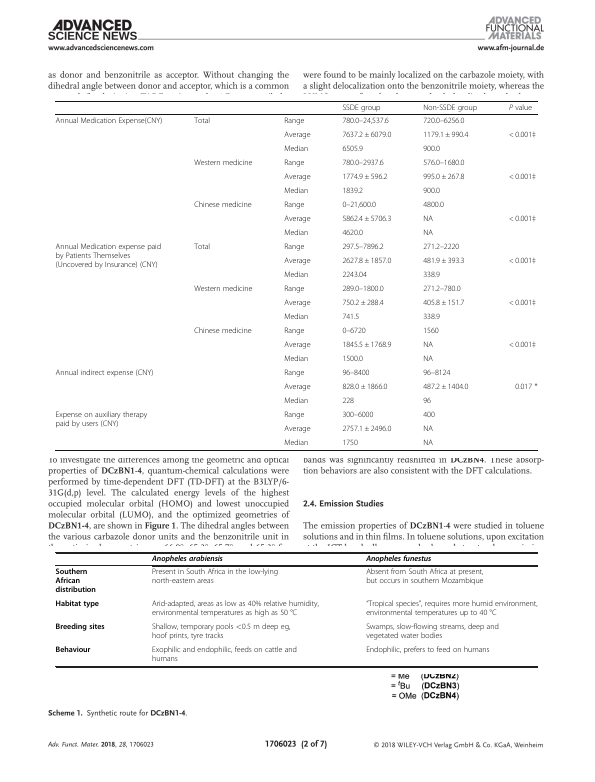borderless: (54, 99, 538, 450), (54, 551, 537, 666)
cell: (365, 600, 538, 619), (151, 600, 320, 619), (55, 242, 162, 270), (151, 646, 298, 665), (151, 623, 291, 642), (365, 623, 500, 642), (151, 568, 279, 587), (365, 568, 484, 587), (55, 410, 148, 429), (365, 646, 490, 656), (54, 568, 97, 596), (55, 116, 163, 126), (55, 368, 154, 378), (151, 555, 224, 564), (365, 555, 432, 564), (193, 158, 253, 168), (193, 284, 253, 294), (193, 200, 252, 210), (193, 326, 252, 336), (54, 623, 106, 633), (341, 130, 392, 140), (341, 214, 392, 224), (341, 256, 392, 266), (341, 340, 392, 350), (341, 424, 392, 434), (422, 103, 478, 112), (341, 116, 390, 126), (422, 130, 469, 140), (341, 172, 388, 182), (341, 382, 388, 392), (422, 382, 469, 392), (54, 600, 100, 610), (341, 298, 385, 308), (422, 116, 465, 126), (341, 158, 384, 168), (422, 158, 465, 168), (422, 172, 465, 182), (341, 242, 384, 252), (422, 256, 465, 266), (341, 284, 384, 294), (422, 298, 465, 308), (422, 284, 461, 294), (422, 242, 460, 252), (54, 646, 91, 656), (341, 103, 381, 112), (341, 200, 377, 210), (341, 410, 374, 420), (508, 130, 537, 140), (508, 172, 537, 182), (508, 214, 537, 224), (508, 256, 537, 266), (508, 298, 537, 308), (508, 340, 537, 350), (341, 368, 370, 378), (422, 368, 451, 378), (283, 130, 311, 140), (283, 172, 311, 182), (283, 214, 311, 224), (283, 256, 311, 266), (283, 298, 311, 308), (283, 340, 311, 350), (283, 382, 311, 392), (283, 424, 311, 434), (341, 270, 368, 280), (283, 144, 309, 154), (283, 186, 309, 196), (283, 228, 309, 238), (283, 270, 309, 280), (283, 312, 309, 322), (341, 326, 367, 336), (283, 354, 309, 364), (283, 396, 309, 406), (283, 438, 309, 448), (514, 382, 538, 392), (341, 144, 364, 154), (341, 186, 364, 196), (422, 200, 445, 210), (341, 228, 364, 238), (341, 354, 364, 364), (508, 103, 533, 112), (283, 116, 305, 126), (283, 158, 305, 168), (283, 200, 305, 210), (283, 242, 305, 252), (283, 284, 305, 294), (283, 326, 305, 336), (283, 368, 305, 378), (283, 410, 305, 420), (422, 144, 441, 154), (422, 186, 441, 196), (422, 270, 441, 280), (341, 312, 360, 322), (422, 312, 441, 322), (193, 116, 211, 126), (193, 242, 211, 252), (422, 326, 440, 336), (341, 438, 359, 448), (341, 396, 355, 406), (422, 410, 436, 420), (422, 214, 434, 224), (422, 228, 434, 238), (422, 340, 434, 350), (422, 354, 434, 364), (422, 424, 434, 434), (422, 438, 434, 448), (422, 396, 432, 406)
